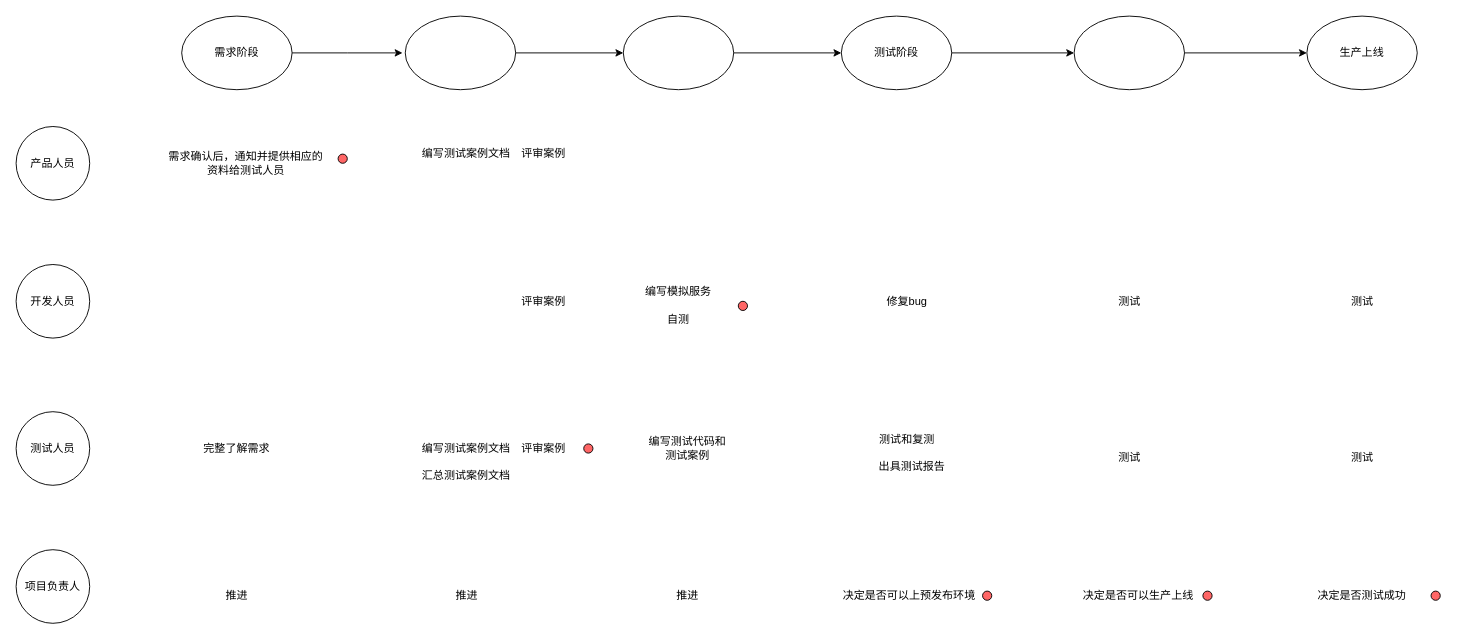
Some shapes in this 1461 by 639 pixel diagram are drawn without their labels. The centre of each missing label's shape, as x and y in pixels:
开发阶段: pixel 678 52
设计阶段: pixel 460 52
预发布: pixel 1128 52
